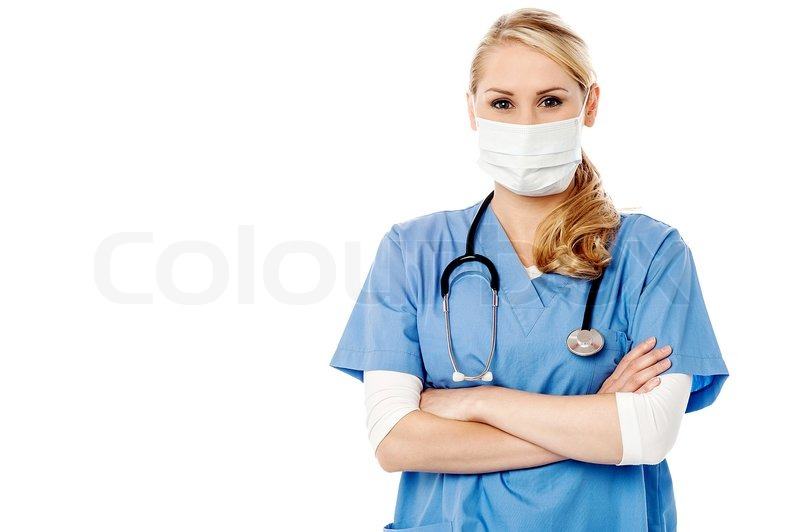mask: (476, 119, 593, 198)
